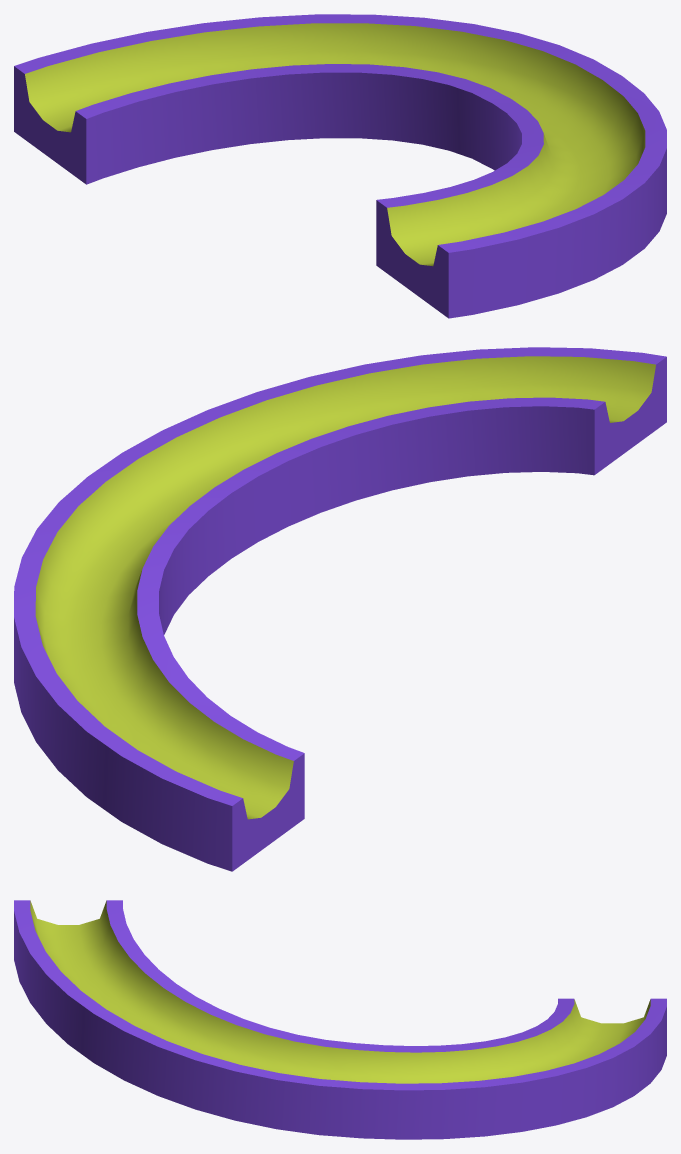
File: helix_large_half_right-col.dae
3 views of the same model, one above another, from view 1: azimuth 30°, elevation 25°; view 2: azimuth 150°, elevation 25°; view 3: azimuth 270°, elevation 25° (orthographic). The views are drawn at different scales.
Parts seen in each view (by area): view 1: helix_large_half_right-col; view 2: helix_large_half_right-col; view 3: helix_large_half_right-col.
Part boxes in pixels (x1=…): helix_large_half_right-col: x1=14, y1=14, x2=666, y2=318; helix_large_half_right-col: x1=14, y1=347, x2=666, y2=871; helix_large_half_right-col: x1=14, y1=900, x2=666, y2=1139.
Size of the model in its own units: 3 by 6 by 1.5.
